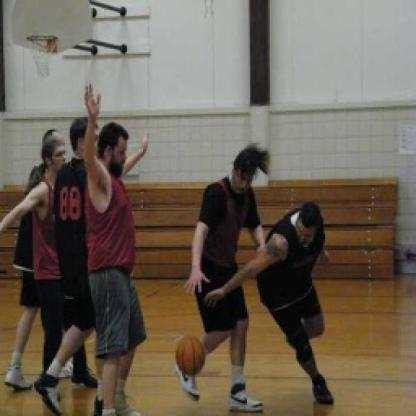basketball: (173, 334, 207, 378)
